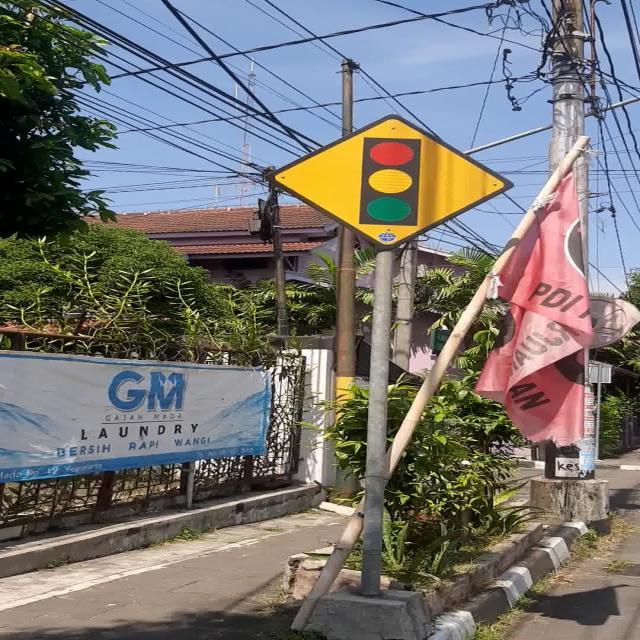Lampu Lalu Lintas: (266, 114, 514, 250)
